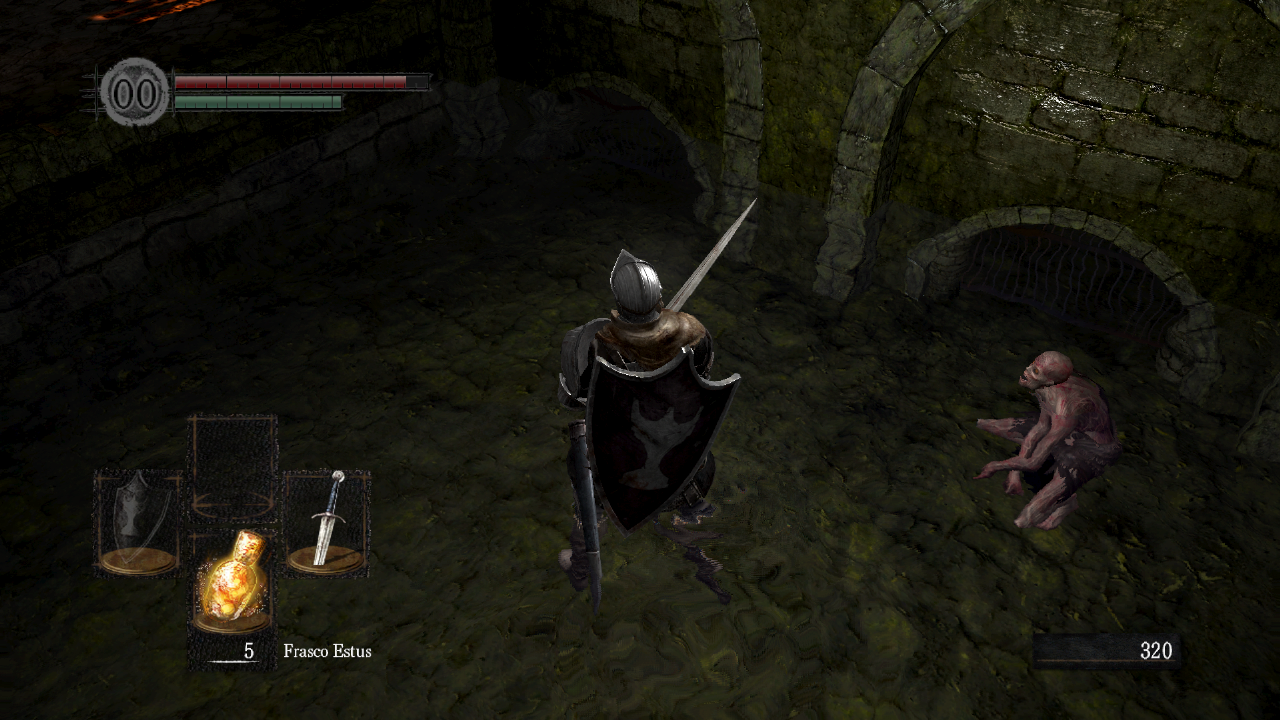hollow: (972, 349, 1123, 530)
player: (557, 197, 758, 605)
